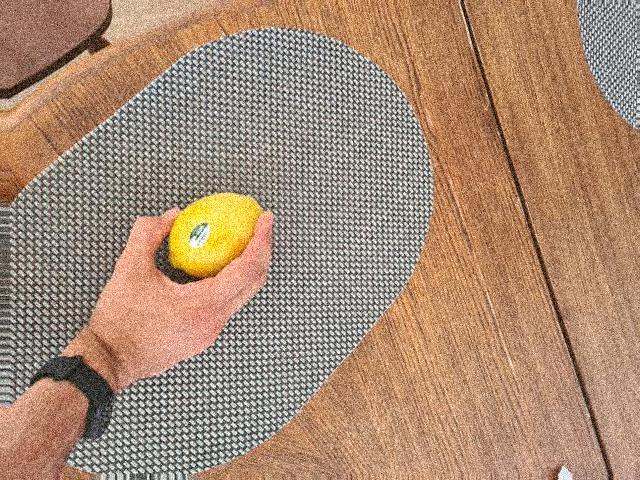lemon: (165, 189, 271, 276)
